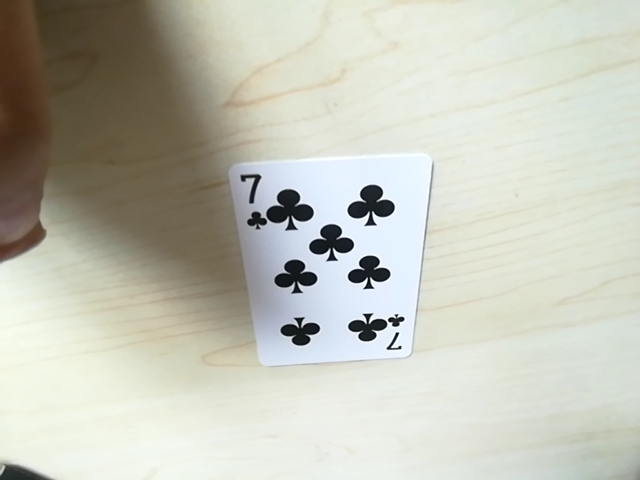mh 7: (229, 168, 271, 220), (364, 318, 408, 356)
